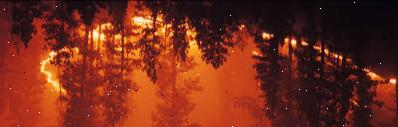fire: (273, 51, 386, 90), (32, 38, 84, 104), (88, 12, 175, 44)
